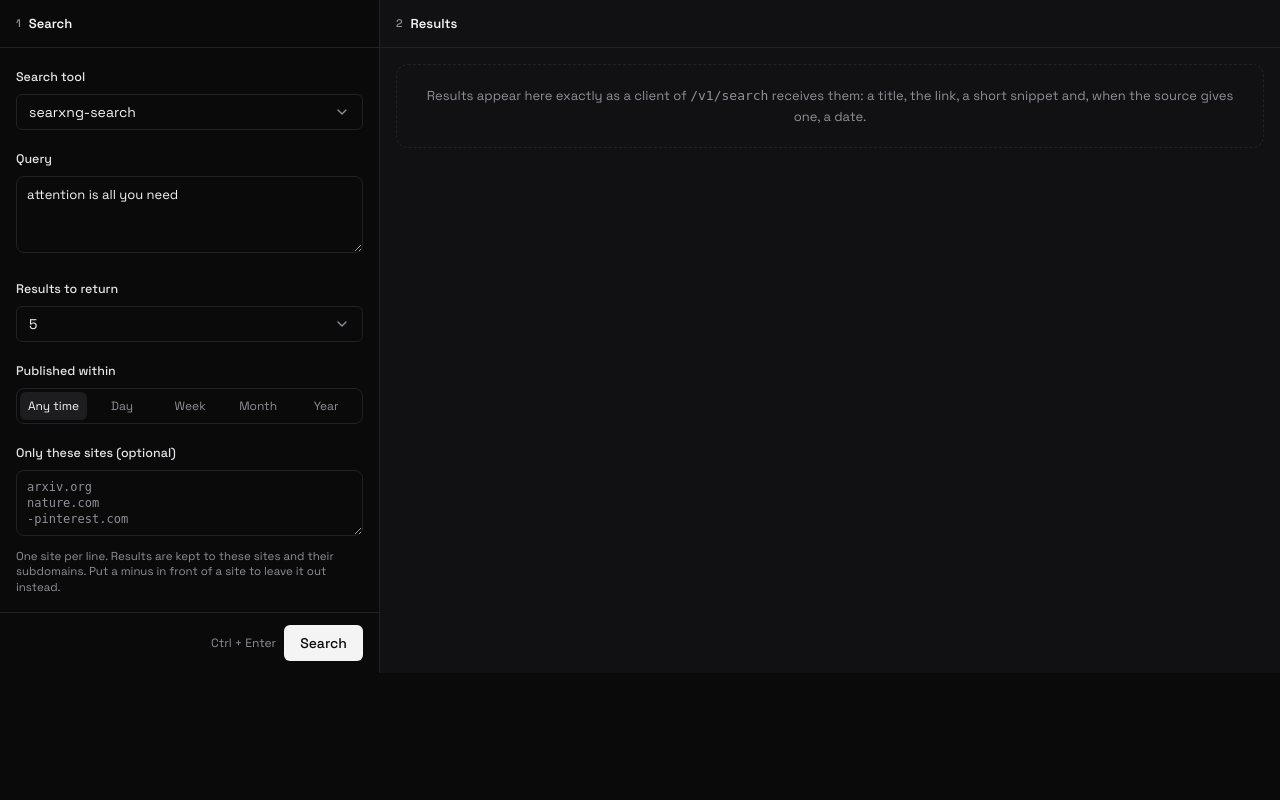
Test case: SearchWorkspace › says plainly when a search finds nothing
Click the button with aria-label "Run search" at (324, 643), box [284,625,363,661]
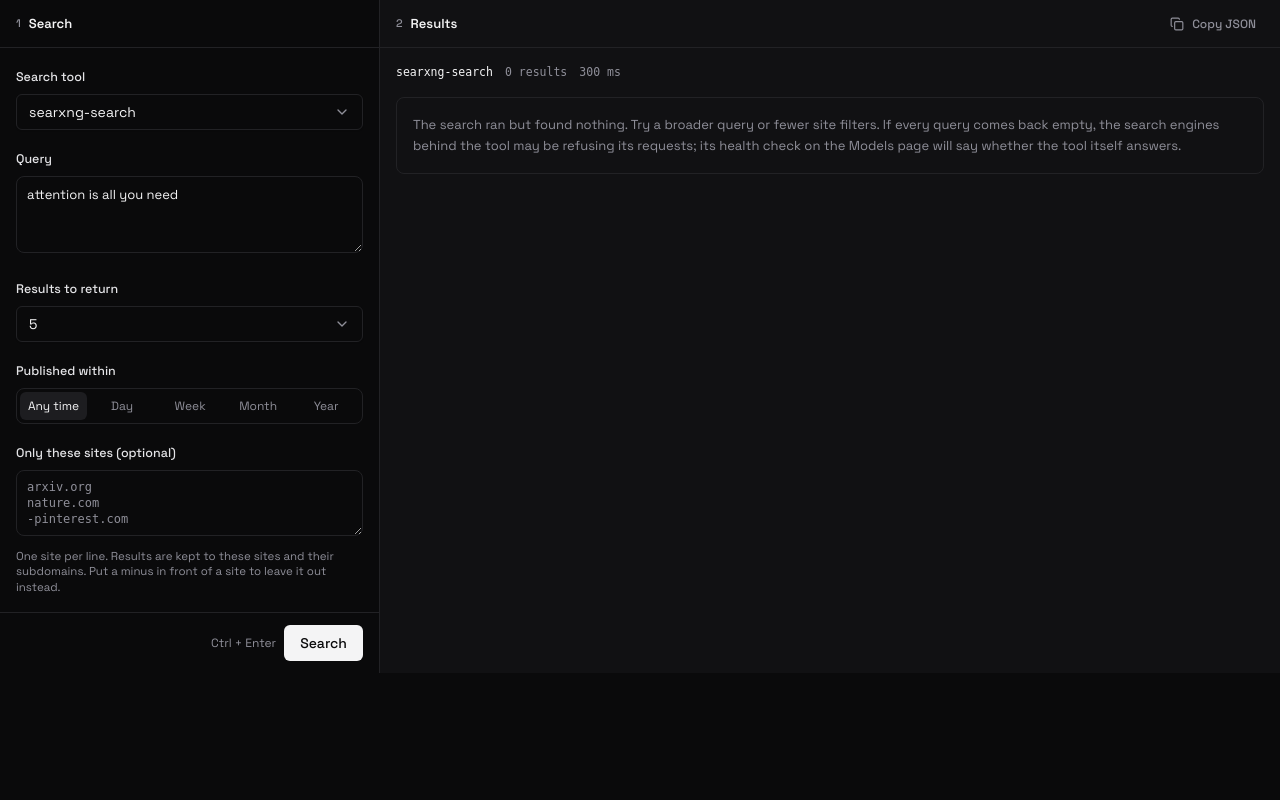
Expected: the text "found nothing" is shown, [413,116,1220,154]
